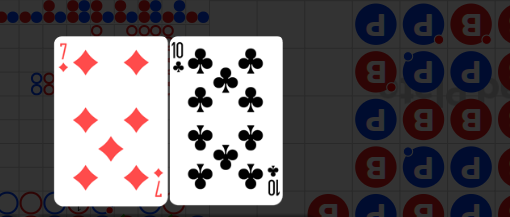10C: (264, 163, 280, 197)
7D: (58, 42, 69, 74)
